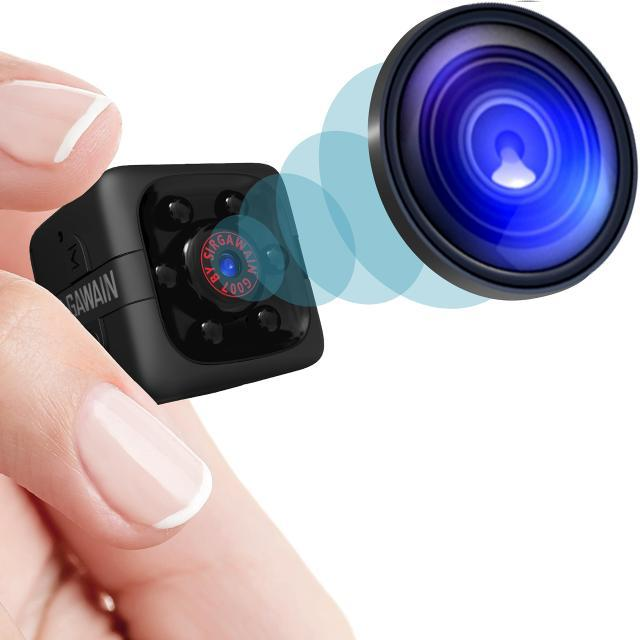hidden camera: (92, 150, 375, 389)
